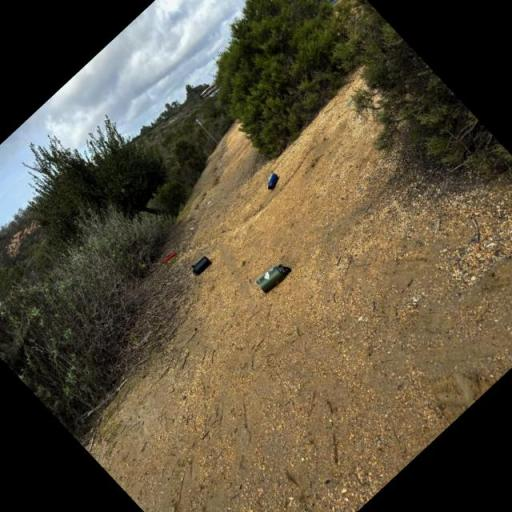bottle: (252, 255, 296, 299), (260, 168, 286, 194)
mallet: (159, 246, 183, 270)
